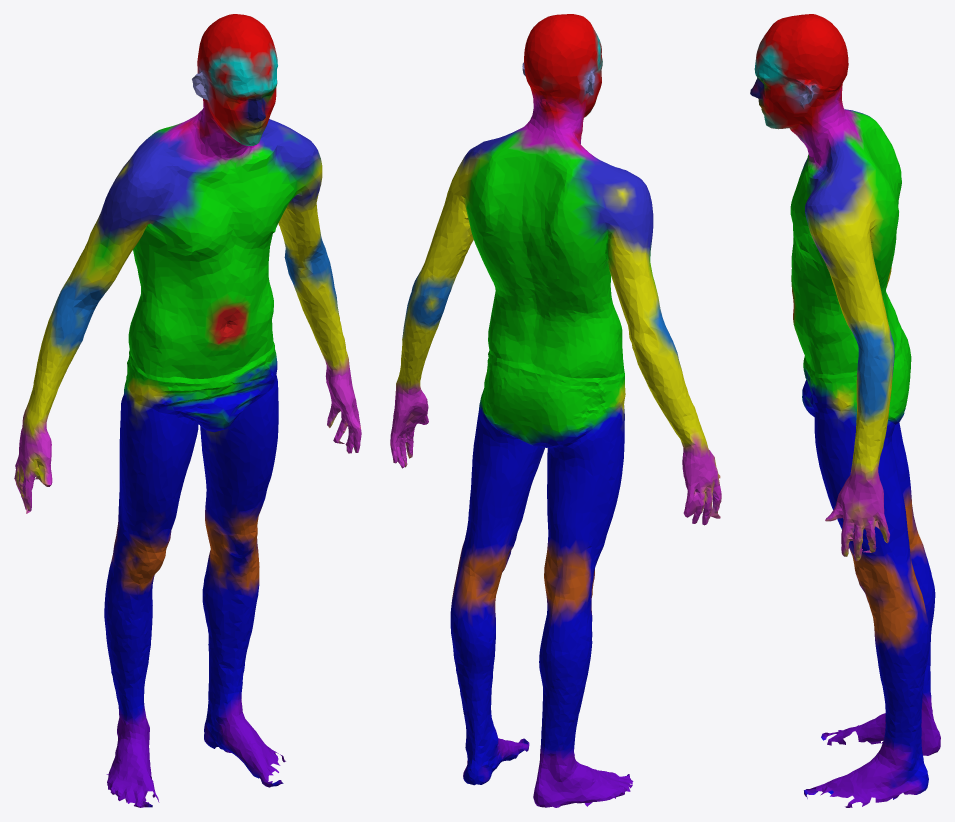
3 renders of one model, left to right at view 1: azimuth 30°, elevation 25°; view 2: azimuth 150°, elevation 25°; view 3: azimuth 270°, elevation 25°, orthographic. The views are drawn at different scales.
Parts seen in each view (by area): view 1: 0; view 2: 0; view 3: 0.
Boxes of the visible parts, x1,y1,x2,y2 form: 0: (14,14,361,807); 0: (390,14,721,807); 0: (750,14,940,807).
Bounding box in the file's own units: 0.8027 × 1.77 × 0.402.
